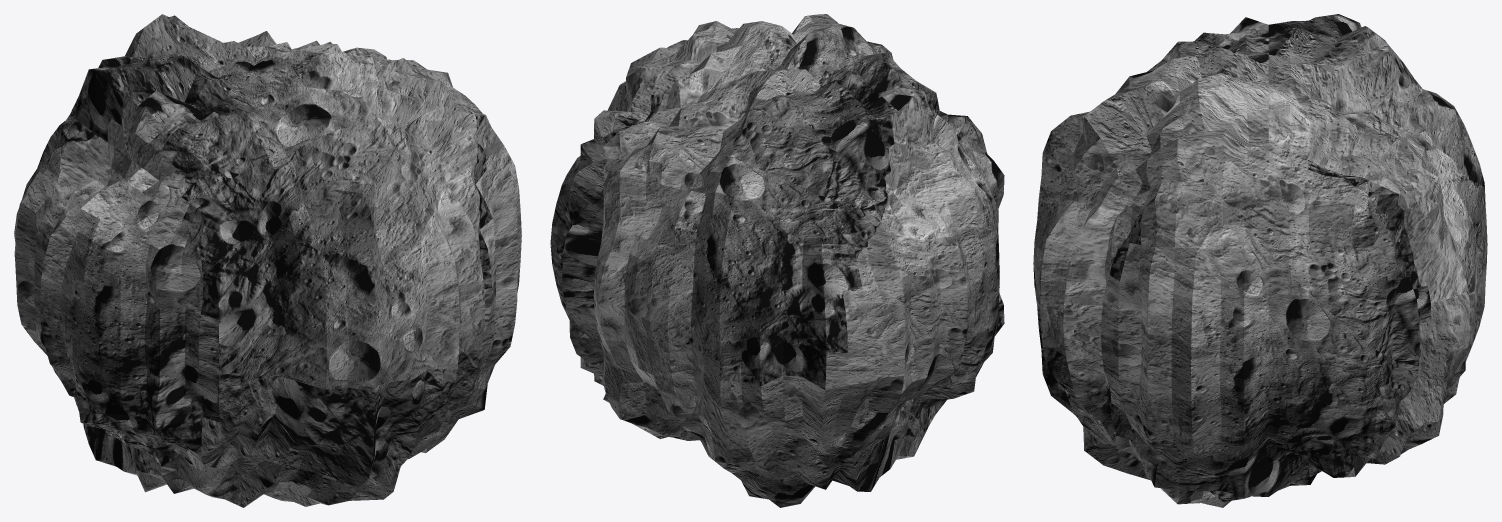
The model's file is asteroid131.obj.
The picture shows the model from 3 angles, left to right: view 1: azimuth 30°, elevation 25°; view 2: azimuth 150°, elevation 25°; view 3: azimuth 270°, elevation 25°; orthographic projection. The views are drawn at different scales.
Parts seen in each view (by area): view 1: Cube_Cube.002; view 2: Cube_Cube.002; view 3: Cube_Cube.002.
Part boxes in pixels (box(x1,y1,x2,y2)): Cube_Cube.002: box(14, 14, 521, 507); Cube_Cube.002: box(550, 14, 1004, 507); Cube_Cube.002: box(1033, 14, 1487, 507).
Size of the model in its own units: 1.82 by 1.8 by 1.71.
